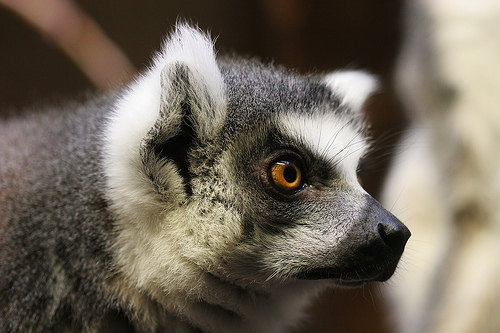cat: (0, 20, 428, 332)
